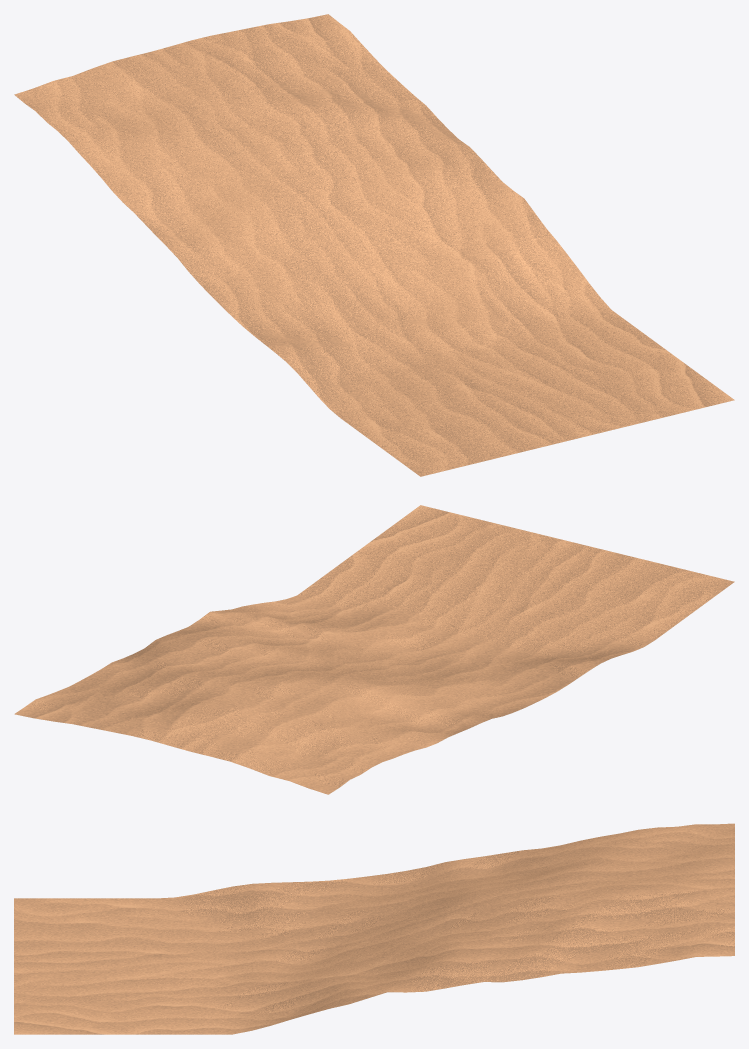
The model's file is map_0.gltf.
3 renders of one model, top to bottom at view 1: azimuth 30°, elevation 25°; view 2: azimuth 150°, elevation 25°; view 3: azimuth 270°, elevation 25°, orthographic. The views are drawn at different scales.
Parts seen in each view (by area): view 1: landscape1; view 2: landscape1; view 3: landscape1.
Boxes of the visible parts, x1,y1,x2,y2 form: landscape1: (14, 14, 734, 476); landscape1: (14, 505, 734, 794); landscape1: (14, 823, 734, 1034).
Bounding box in the file's own units: 9.38 × 2.72 × 21.
1 material, 1 textured.
